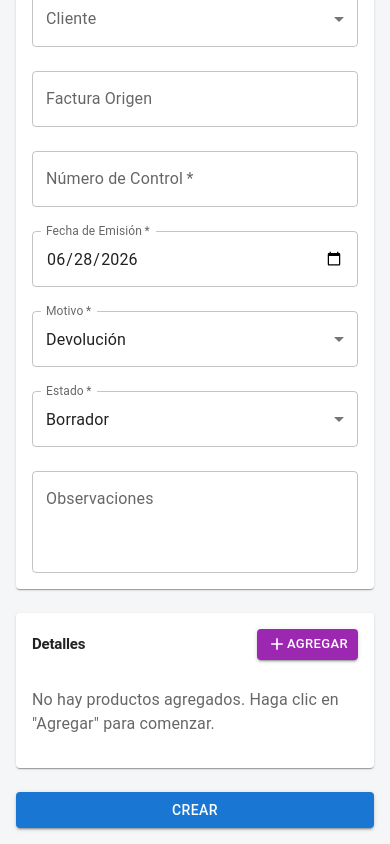
Test case: NotaCreditoFiscalFormPage › bloquea el submit y exige cliente, número de control y detalles
(page scrolled)
Click the button "Crear" at [195, 810], box [16,792,374,828]
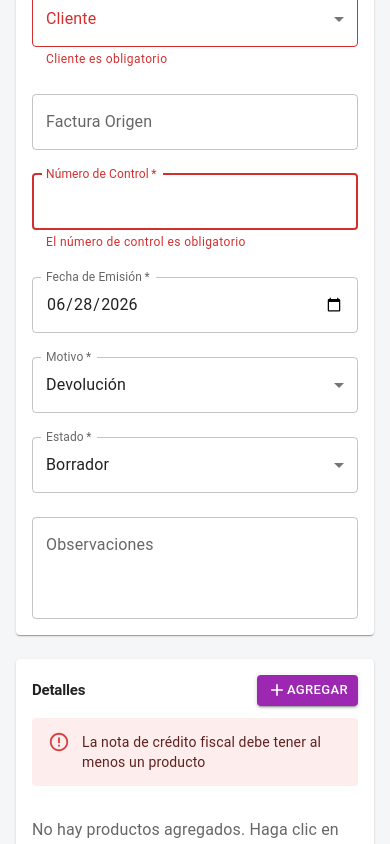
Now the text "Cliente es obligatorio" is shown, box [46,52,167,66]
Now the text "El número de control es obligatorio" is shown, box [46,235,246,249]
Now the text "La nota de crédito fiscal debe tener al menos un producto" is shown, box [82,724,342,780]
